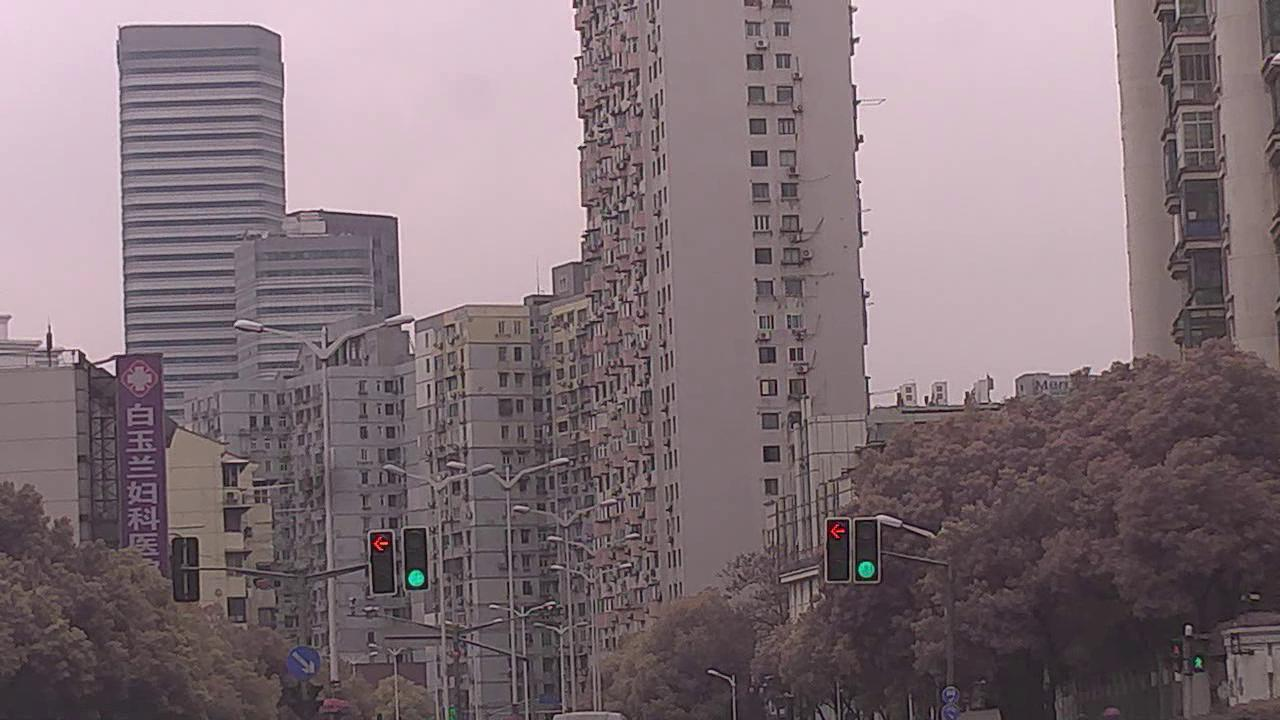traffic_light: (399, 527, 431, 593), (369, 530, 399, 593), (855, 518, 880, 581), (829, 516, 851, 582)
